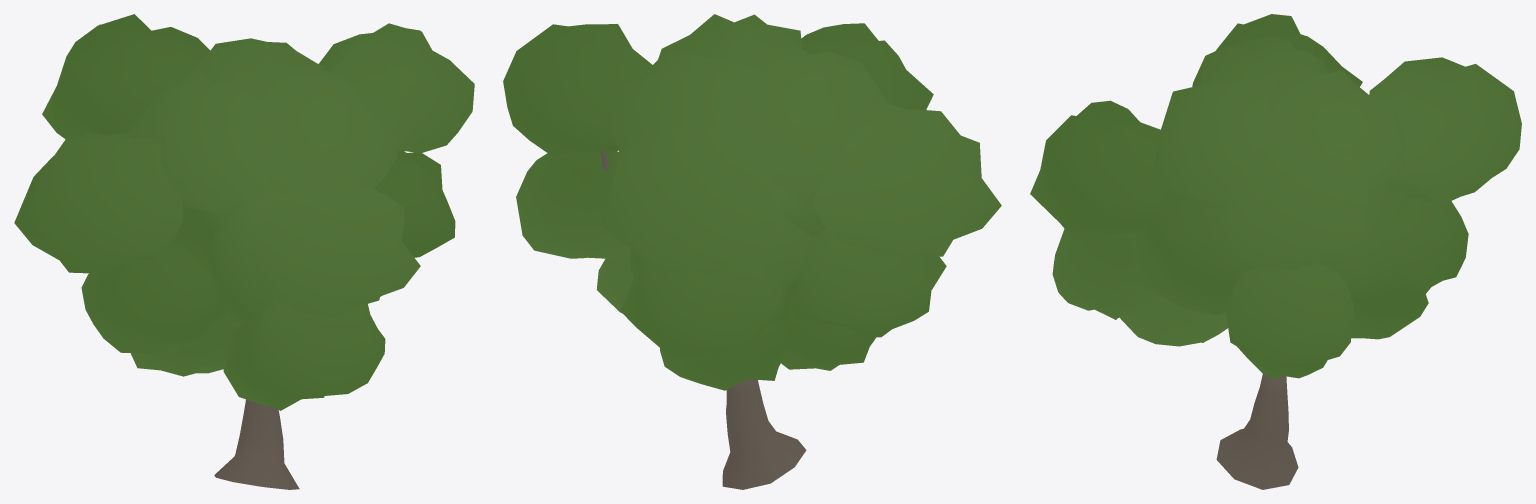
The model's file is Blender_PostOak_2.glb.
The picture shows the model from 3 angles, left to right: view 1: azimuth 30°, elevation 25°; view 2: azimuth 150°, elevation 25°; view 3: azimuth 270°, elevation 25°; orthographic projection. The views are drawn at different scales.
Visible parts, largest first — view 1: Blender_PostOak_2; view 2: Blender_PostOak_2; view 3: Blender_PostOak_2.
Boxes of the visible parts, x1=… form: Blender_PostOak_2: x1=14, y1=14, x2=474, y2=489; Blender_PostOak_2: x1=503, y1=14, x2=1001, y2=489; Blender_PostOak_2: x1=1030, y1=14, x2=1521, y2=489.
Bounding box in the file's own units: 11.43 × 10.6 × 11.46.
